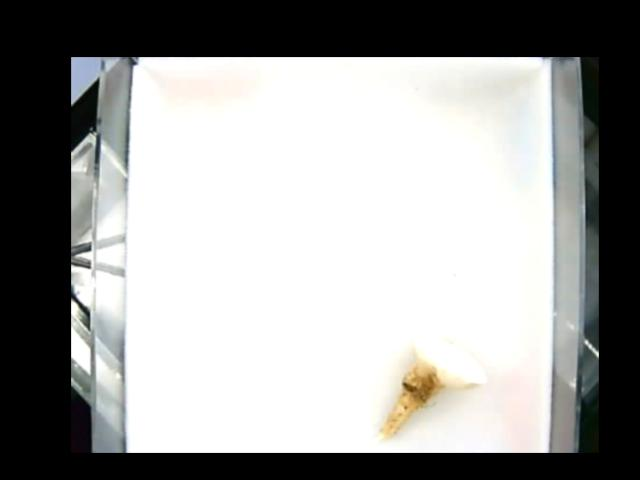Mooli: (373, 330, 485, 442)
